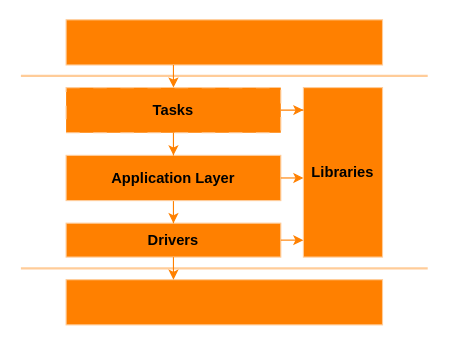
Some shapes in this 449 by 345 pixel diagram are drawn without their labels. Here are the shapes that lost their labels. From the top down, the box of each, then its label:
(65, 19, 383, 65): Application
(65, 279, 383, 325): Hardware
